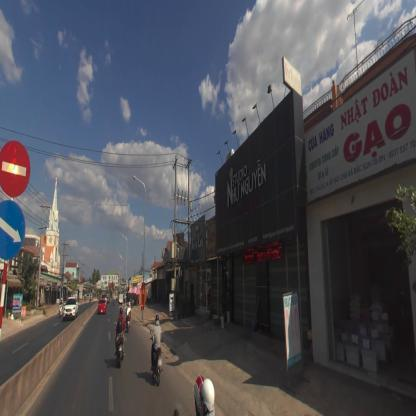Cam nguoc chieu: (0, 139, 30, 196)
Hieu lenh: (0, 200, 25, 258)
